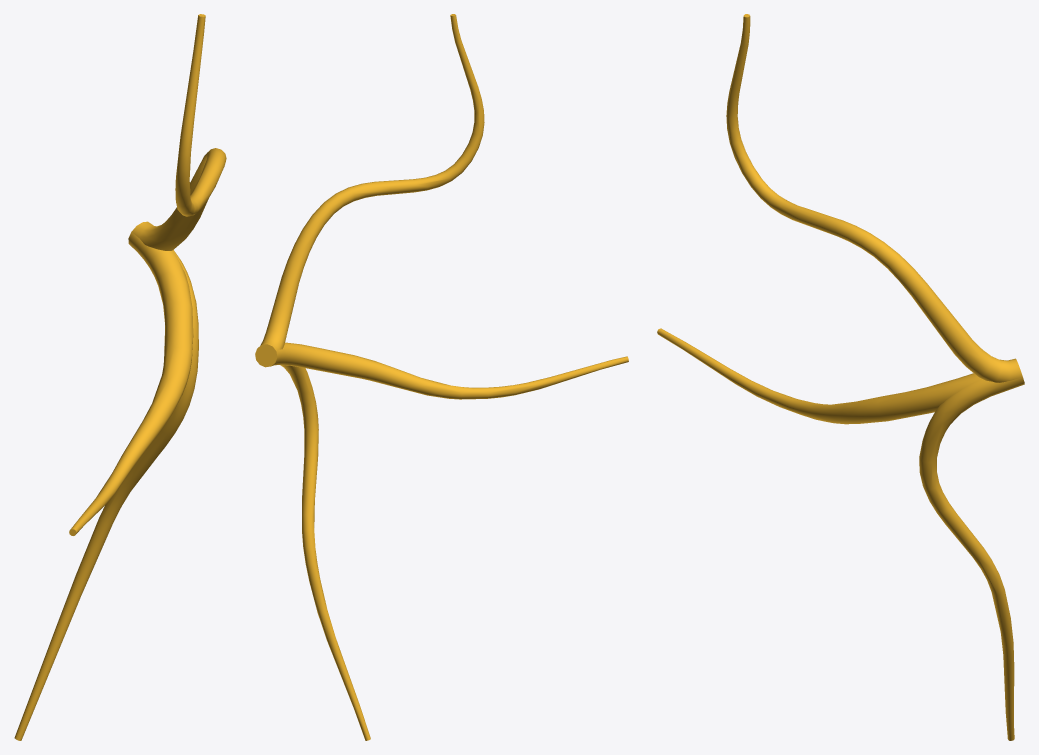
The model's file is nervoso-mental-nerve-l.glb.
3 views of the same model, side by side, from view 1: azimuth 30°, elevation 25°; view 2: azimuth 150°, elevation 25°; view 3: azimuth 270°, elevation 25° (orthographic). The views are drawn at different scales.
Visible parts, largest first — view 1: Mental nerve.l; view 2: Mental nerve.l; view 3: Mental nerve.l.
Part boxes in pixels (box(x1,y1,x2,y2)): Mental nerve.l: box(14, 14, 226, 740); Mental nerve.l: box(255, 14, 628, 740); Mental nerve.l: box(657, 14, 1024, 740).
Size of the model in its own units: 0.00443 by 0.0119 by 0.00536.
